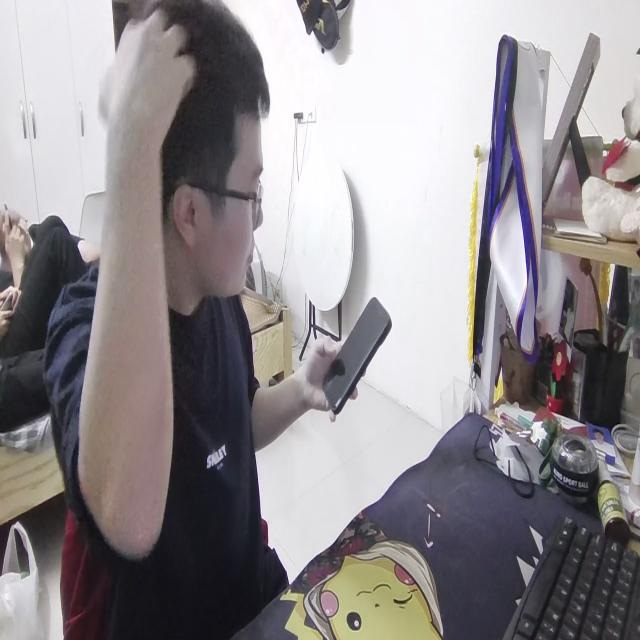extra_person: (0, 198, 89, 422)
phone: (322, 289, 393, 417)
student: (48, 0, 339, 640)
